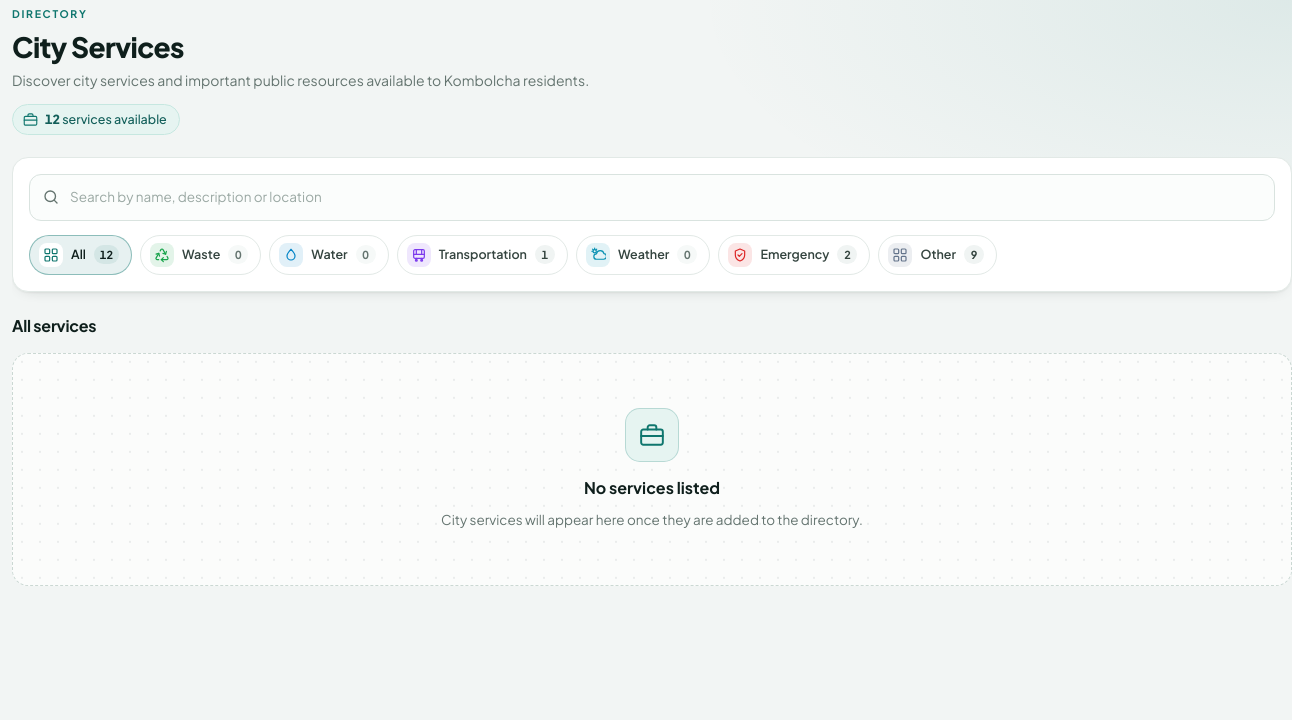
Test: Services directory › offers a reset action when no service matches
expect the heading "No services listed" is shown: met, box [584,476,720,500]
Step 1. Click the button "Waste 0" → (201, 255), box [140,235,261,275]
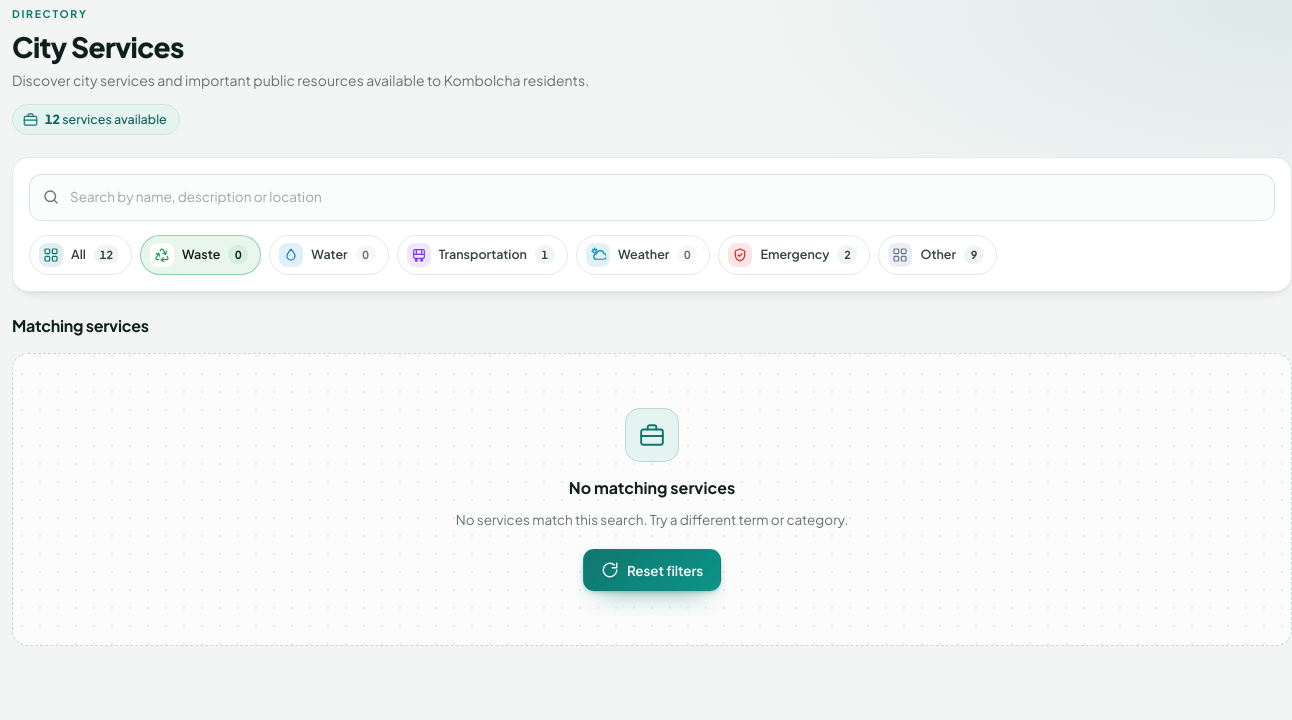
expect the heading "No matching services" is shown: met, box [569,476,735,500]
Step 2. Click the button "Reset filters" → (652, 570), box [583,549,721,591]
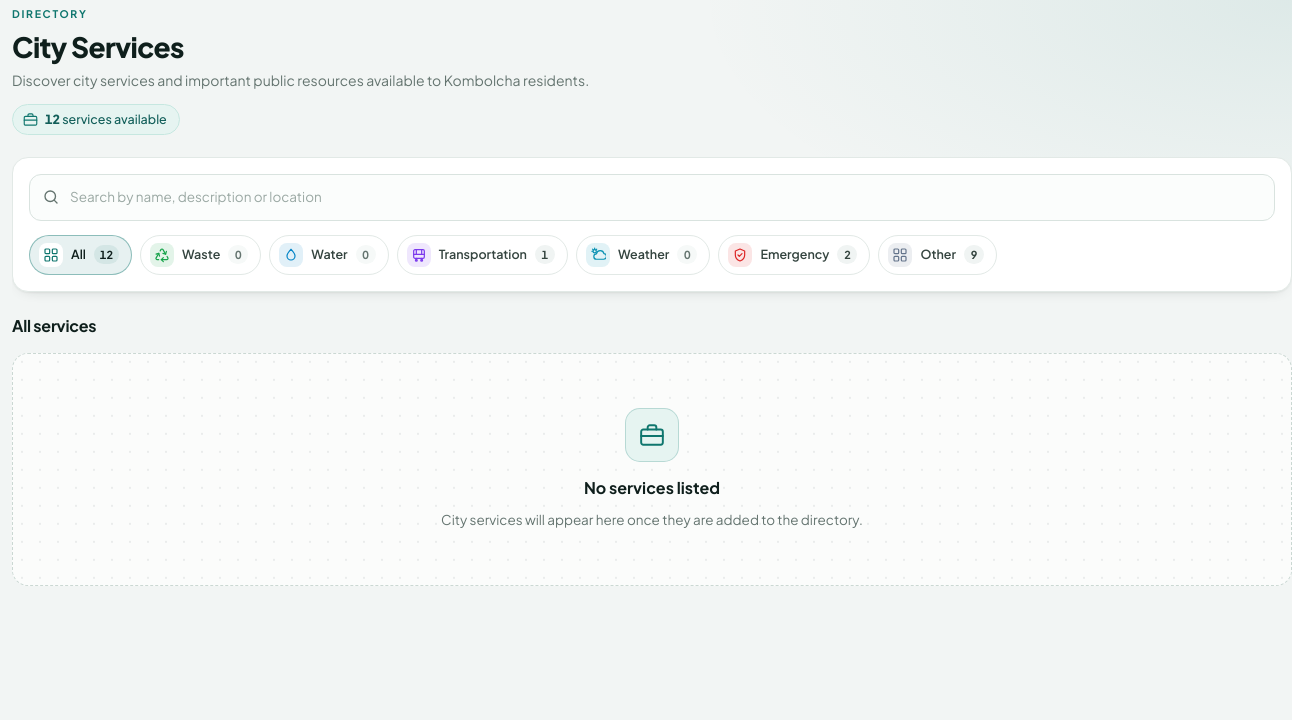
expect the heading "No services listed" is shown: met, box [584,476,720,500]
